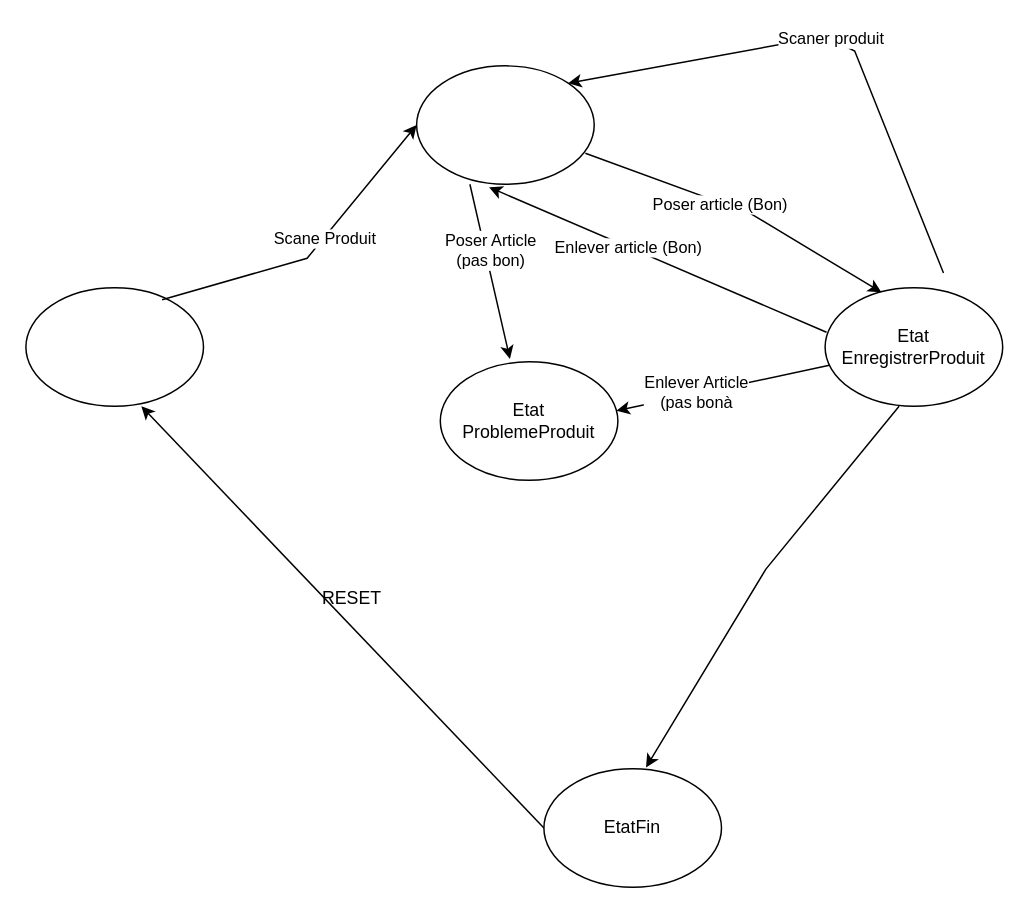
Some shapes in this 1029 by 913 pixel diagram are drawn without their labels. The shapes that lost their labels are listed below. From the top down, each one's centre as x and y in pixels, then its label:
the point at 504,124: Etat AttenteProduit
the point at 114,346: Etat AttenteClient
